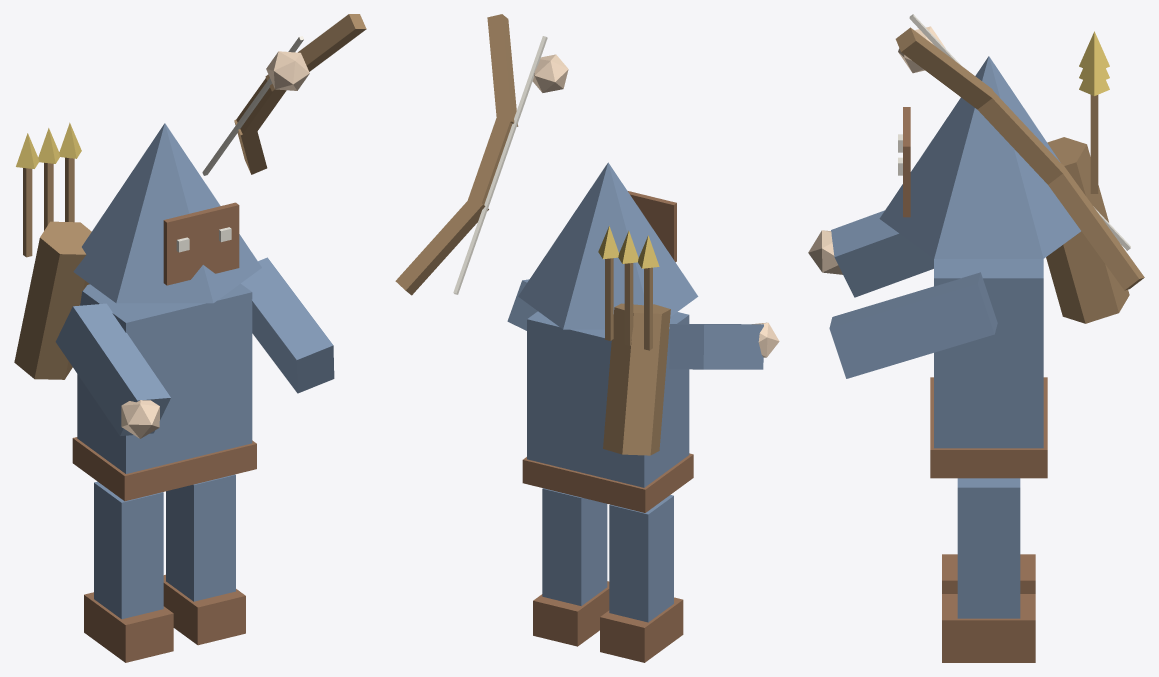
The model's file is npcpose_archer_attack_00.glb.
The picture shows the model from 3 angles, left to right: view 1: azimuth 30°, elevation 25°; view 2: azimuth 150°, elevation 25°; view 3: azimuth 270°, elevation 25°; orthographic projection. The views are drawn at different scales.
Visible parts, largest first — view 1: npcpose; view 2: npcpose; view 3: npcpose.
Boxes of the visible parts, x1=… form: npcpose: x1=14, y1=14, x2=366, y2=662; npcpose: x1=395, y1=14, x2=779, y2=662; npcpose: x1=808, y1=14, x2=1144, y2=662.
Bounding box in the file's own units: 0.9089 × 1.93 × 0.8611.
